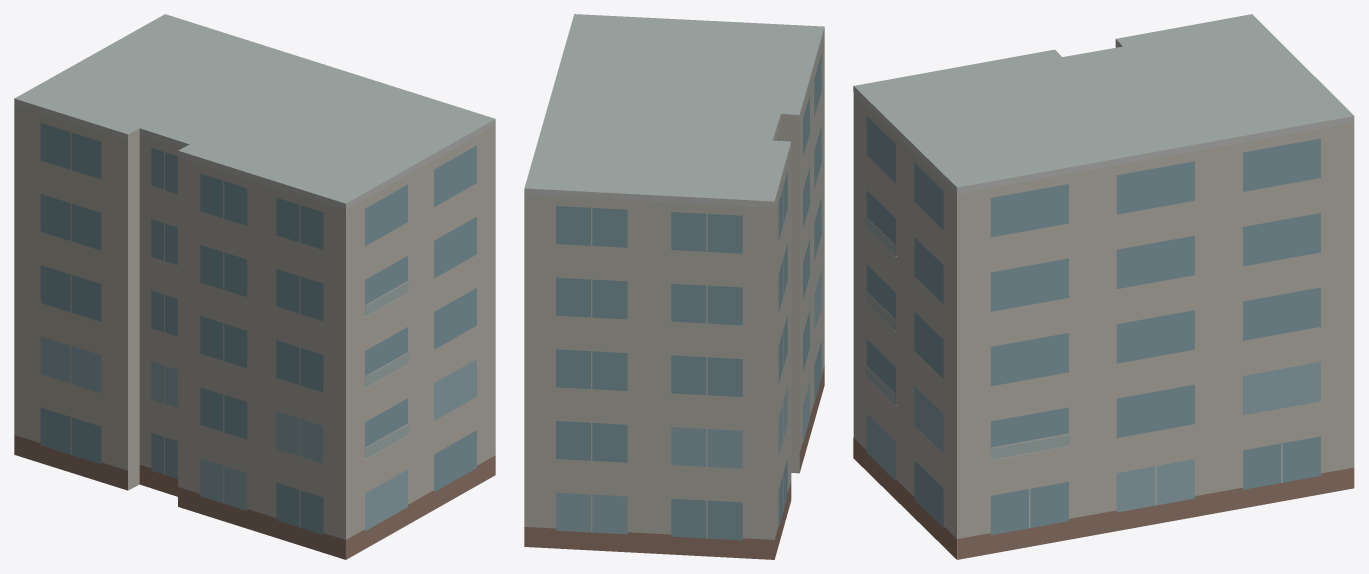
File: survey-upis-32954247.glb
3 views of the same model, side by side, from view 1: azimuth 30°, elevation 25°; view 2: azimuth 150°, elevation 25°; view 3: azimuth 270°, elevation 25° (orthographic). The views are drawn at different scales.
Parts seen in each view (by area): view 1: survey-upis-32954247.tmp; view 2: survey-upis-32954247.tmp; view 3: survey-upis-32954247.tmp.
Part boxes in pixels (left/top/right/bottom): survey-upis-32954247.tmp: left=14, top=14, right=495, bottom=559; survey-upis-32954247.tmp: left=524, top=14, right=824, bottom=559; survey-upis-32954247.tmp: left=853, top=14, right=1354, bottom=559.
Bounding box in the file's own units: 13.96 × 13.95 × 17.02.
